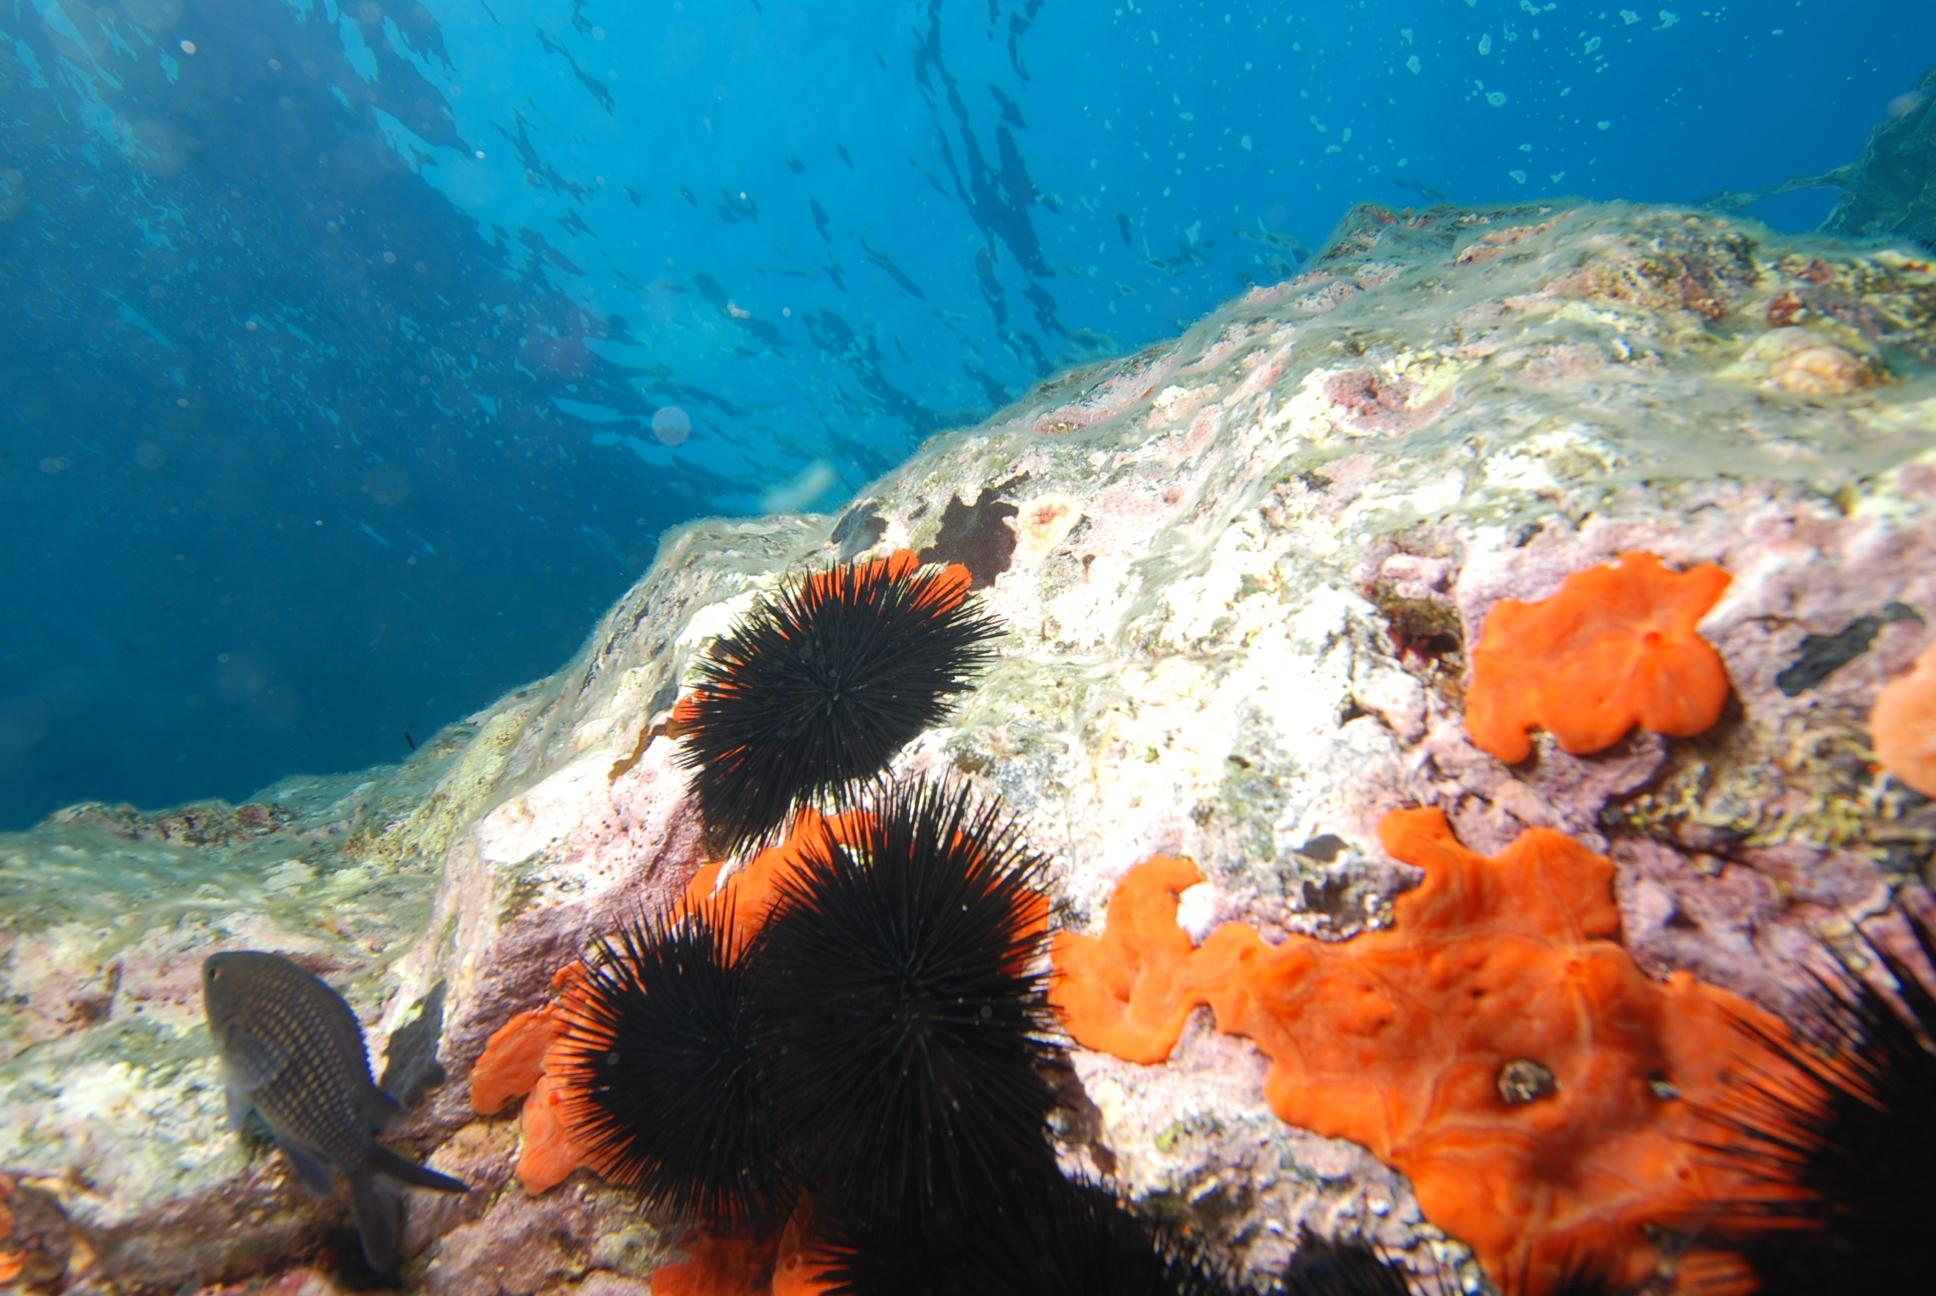urchin: (742, 775, 1076, 1215), (1651, 856, 1936, 1296), (672, 550, 1009, 864), (539, 878, 778, 1237), (801, 1160, 1261, 1296)
